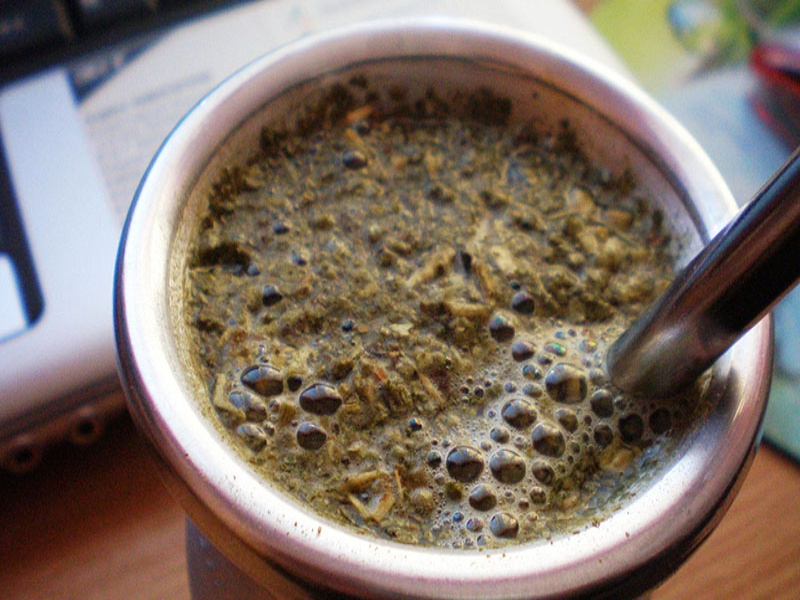guampa: (80, 15, 765, 574)
